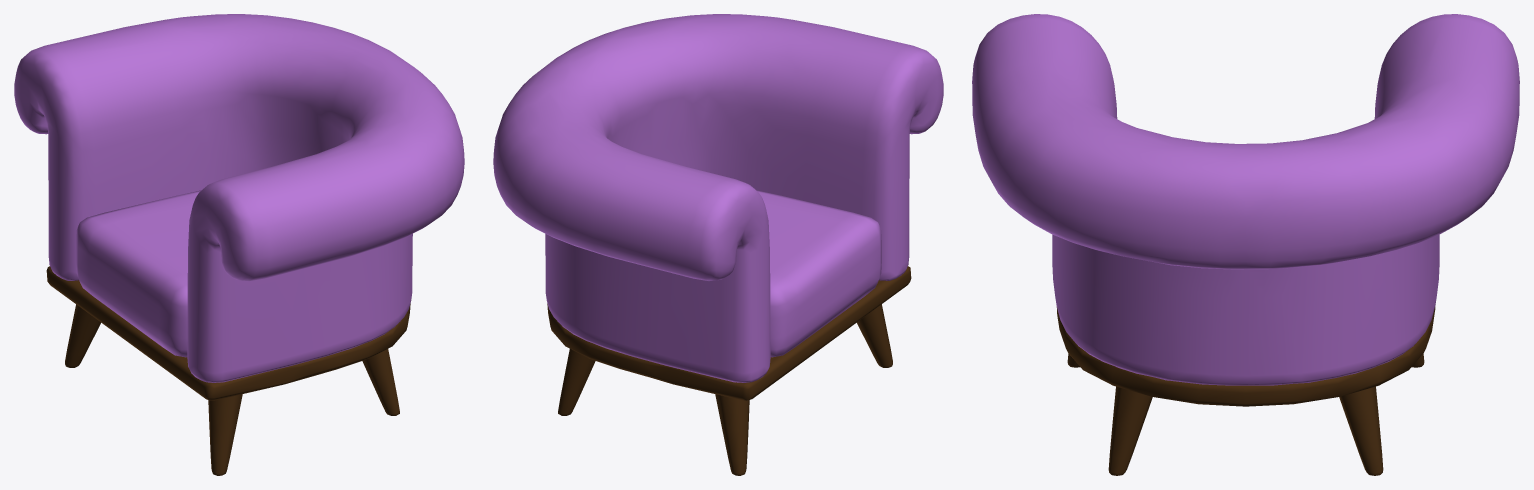
Rendered from armchair_09_purple.fbx.
3 renders of one model, left to right at view 1: azimuth 30°, elevation 25°; view 2: azimuth 150°, elevation 25°; view 3: azimuth 270°, elevation 25°, orthographic. The views are drawn at different scales.
Visible parts, largest first — view 1: armchair_09_purple; view 2: armchair_09_purple; view 3: armchair_09_purple.
Part boxes in pixels (left/top/right/bottom): armchair_09_purple: left=14, top=14, right=464, bottom=475; armchair_09_purple: left=493, top=14, right=943, bottom=475; armchair_09_purple: left=972, top=14, right=1519, bottom=475.
Bounding box in the file's own units: 106 × 102 × 145.
Materials: 2 (2 with a texture image).
